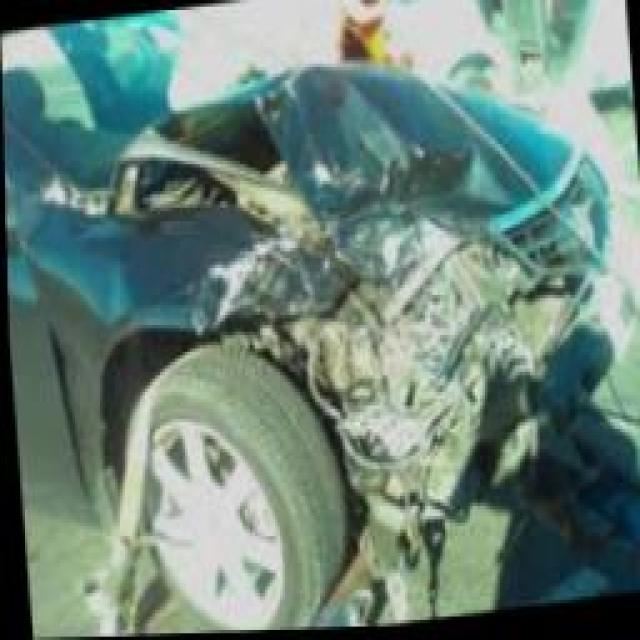Bonnet: (96, 59, 584, 282)
Bumper: (298, 273, 630, 529)
Fender: (19, 177, 352, 331)
Light: (312, 285, 427, 365)
